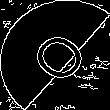O_SE: (18, 22, 92, 88)
